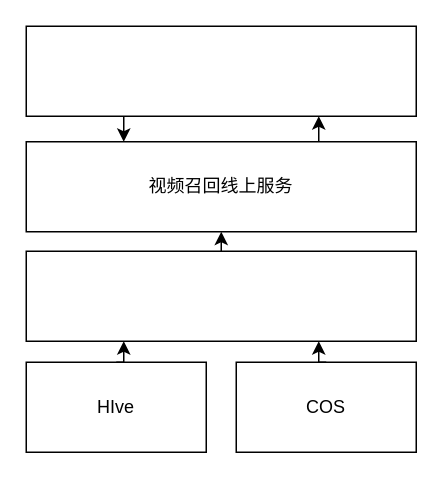
Some shapes in this 443 by 479 pixel diagram are drawn without their labels. Each missing label, with the box of its shape:
ANN索引: (25, 250, 416, 341)
Wukong多通道逻辑: (25, 25, 416, 116)
